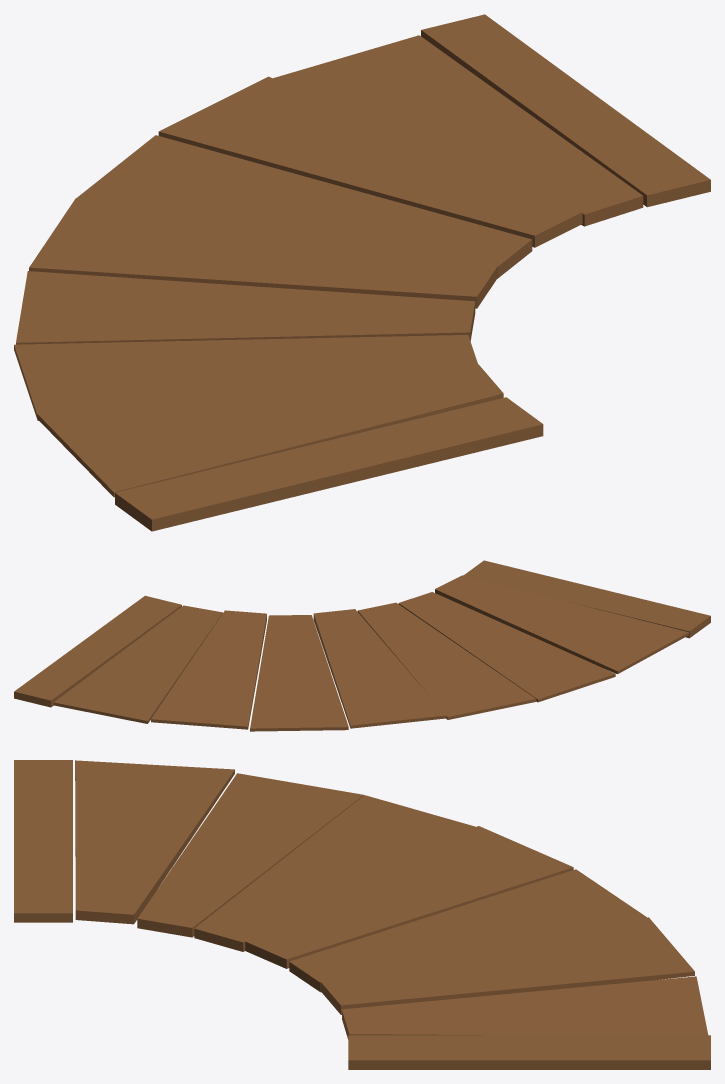
The model's file is jettiboard_turn_02_a.fbx.
3 renders of one model, top to bottom at view 1: azimuth 30°, elevation 25°; view 2: azimuth 150°, elevation 25°; view 3: azimuth 270°, elevation 25°, orthographic. The views are drawn at different scales.
Visible parts, largest first — view 1: JettiBoard_Turn_02_a; view 2: JettiBoard_Turn_02_a; view 3: JettiBoard_Turn_02_a.
Part boxes in pixels (left/top/right/bottom): JettiBoard_Turn_02_a: left=14, top=14, right=710, bottom=531; JettiBoard_Turn_02_a: left=14, top=560, right=710, bottom=731; JettiBoard_Turn_02_a: left=14, top=760, right=710, bottom=1069.
Bounding box in the file's own units: 81.3 × 79.71 × 1.66.
